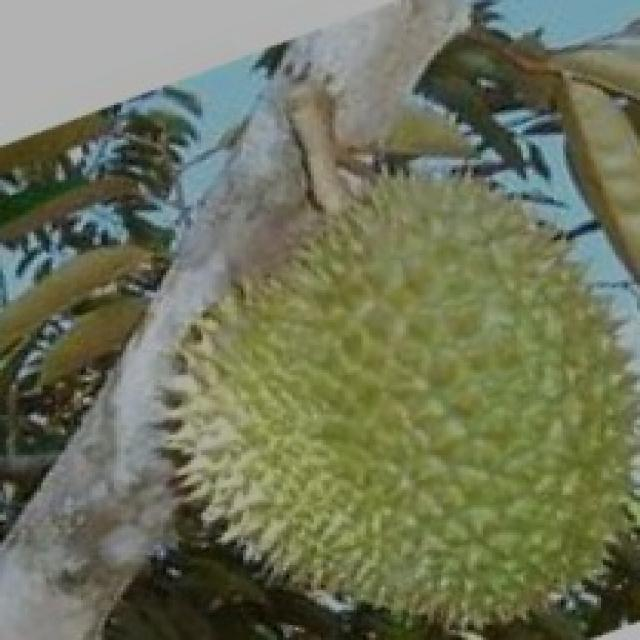fruit: (89, 230, 443, 638)
